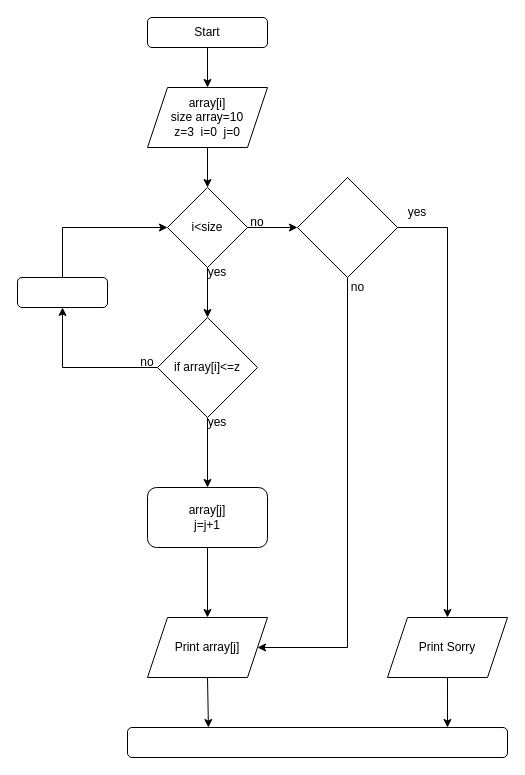
The diagram is 525 pixels wide and 775 high, and some of its shapes have lost their labels. The centre of each missing label's shape, as x and y in pixels:
End: (x=317, y=742)
i=i+1: (x=62, y=292)
If array[j] =Empty: (x=347, y=227)
